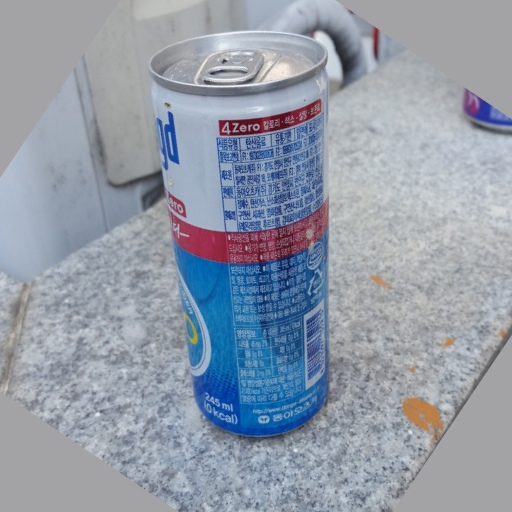Metal_0: (149, 29, 332, 441)
